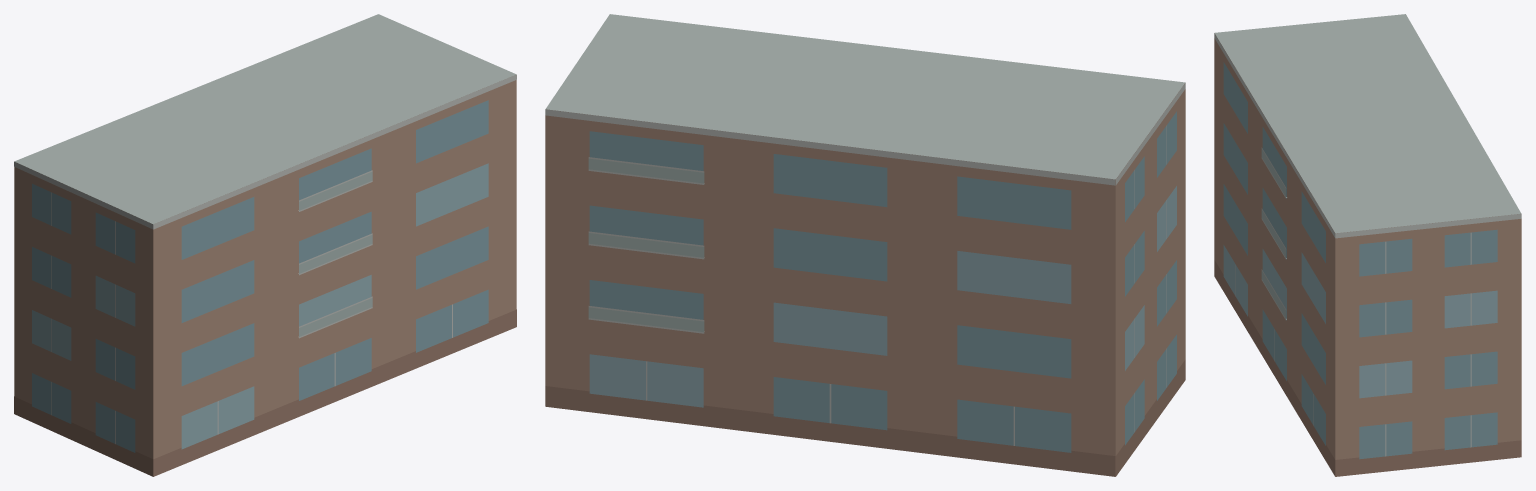
Rendered from survey-upis-32719422.glb.
The picture shows the model from 3 angles, left to right: view 1: azimuth 30°, elevation 25°; view 2: azimuth 150°, elevation 25°; view 3: azimuth 270°, elevation 25°; orthographic projection. The views are drawn at different scales.
Parts seen in each view (by area): view 1: survey-upis-32719422.tmp; view 2: survey-upis-32719422.tmp; view 3: survey-upis-32719422.tmp.
Part boxes in pixels (<box>): survey-upis-32719422.tmp: <box>14,14,516,476</box>; survey-upis-32719422.tmp: <box>545,14,1185,476</box>; survey-upis-32719422.tmp: <box>1214,14,1521,476</box>.
Size of the model in its own units: 22.61 by 11.7 by 13.38.
